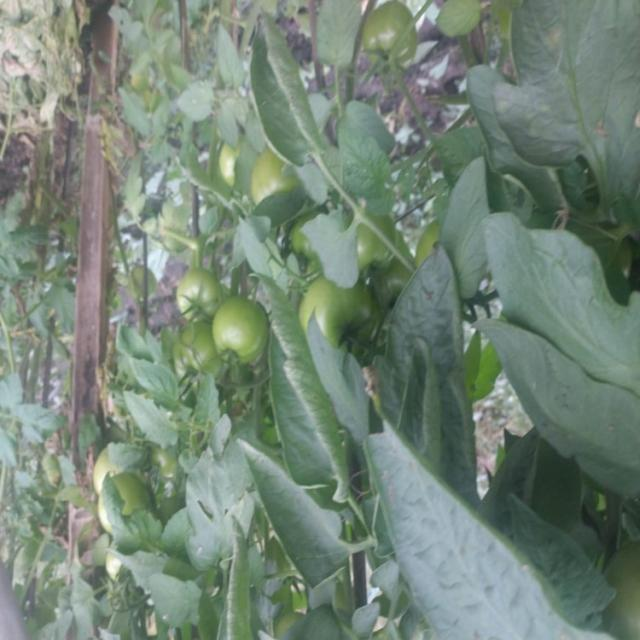tomato: (291, 273, 381, 353), (355, 1, 425, 71), (204, 297, 271, 361), (245, 147, 304, 208), (351, 217, 412, 275), (105, 464, 161, 527), (173, 271, 217, 311)
